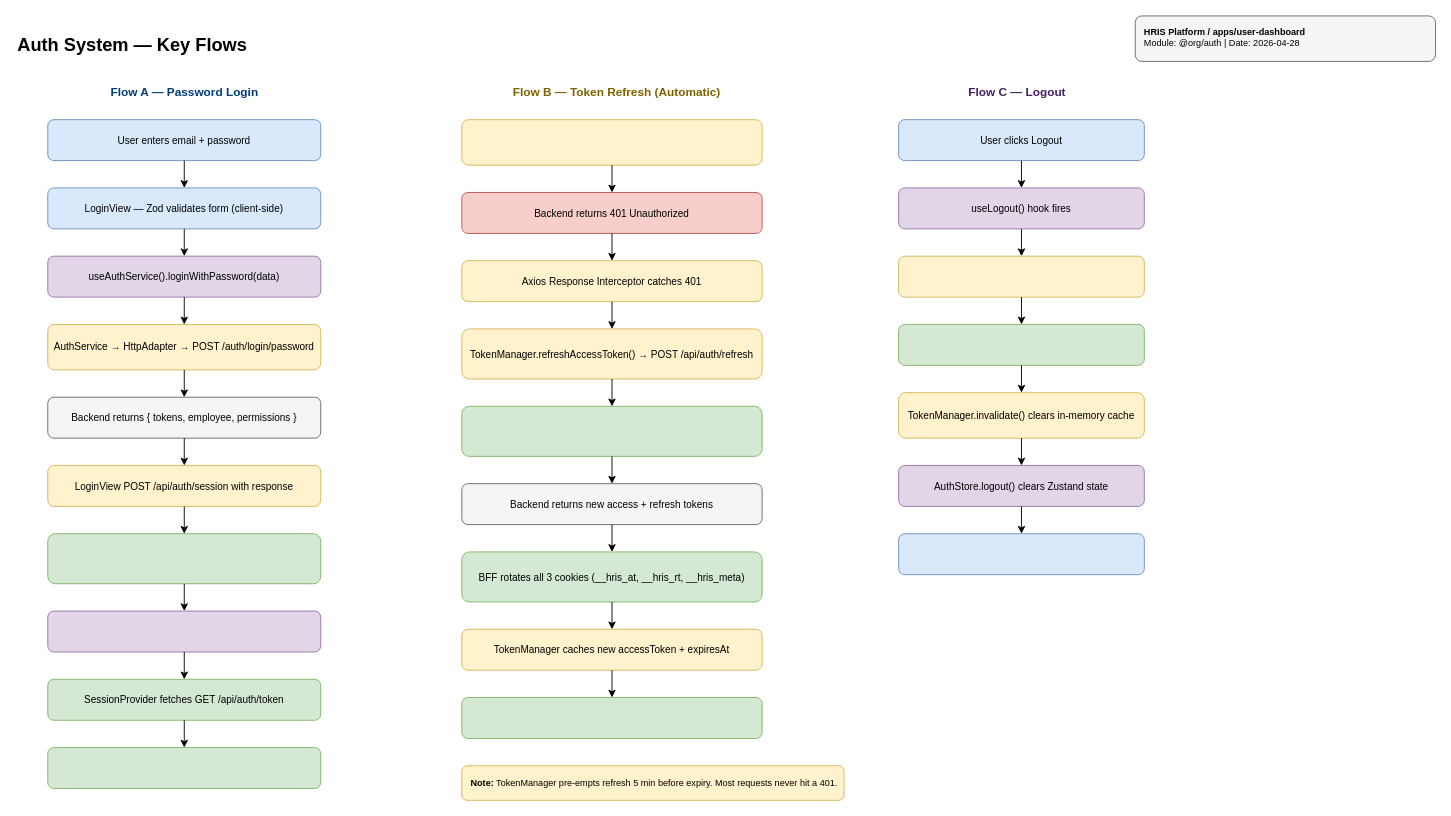
This 1451x816 diagram has some shape labels left out. Each missing label, with the centre of its shape:
"API call — Axios attaches Bearer from TokenManager" goes at (x=611, y=142).
"BFF clears all 3 cookies (maxAge = 0)" goes at (x=1021, y=344).
"BFF reads __hris_rt → proxy POST /auth/refresh to backend" goes at (x=611, y=430).
"BFF signs __hris_meta (HMAC-SHA256), sets 3 HTTP-only cookies" goes at (x=184, y=558).
"ComponentGuard checks RBAC → navigate to dashboard" goes at (x=184, y=768).
"DELETE /api/auth/session (BFF)" goes at (x=1021, y=276).
"Interceptor retries original request with new token" goes at (x=611, y=717).
"LoginView calls useSession().refresh()" goes at (x=184, y=631).
"router.push('/login')" goes at (x=1021, y=554).
